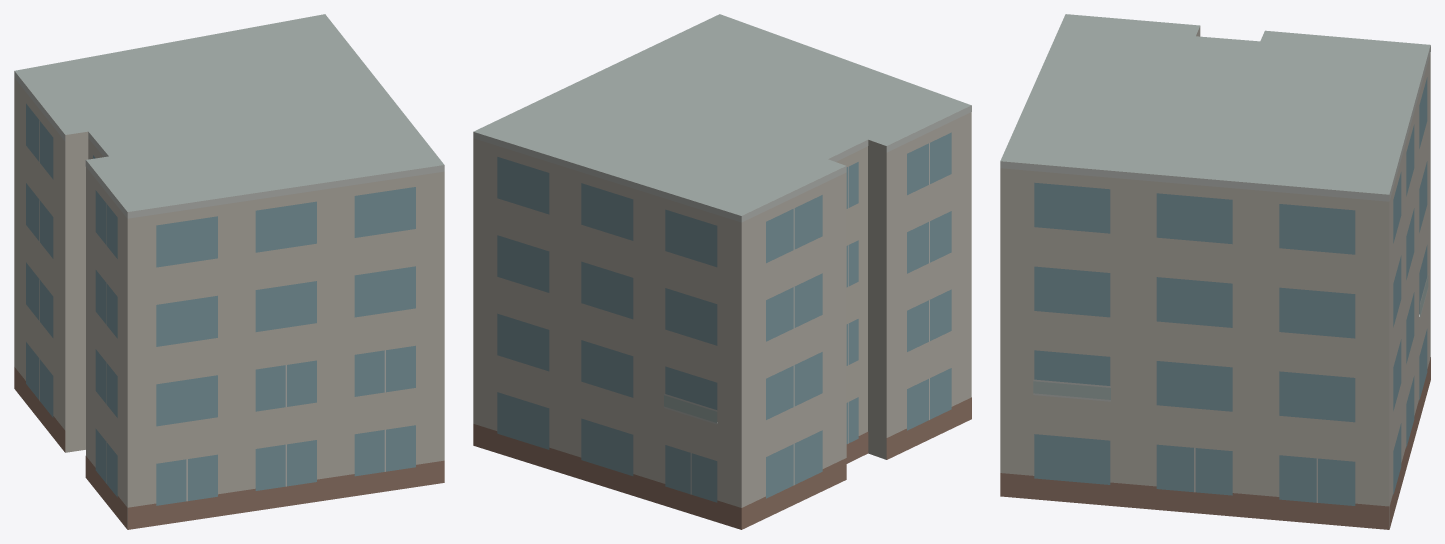
File: survey-upis-32899996.glb
The picture shows the model from 3 angles, left to right: view 1: azimuth 30°, elevation 25°; view 2: azimuth 150°, elevation 25°; view 3: azimuth 270°, elevation 25°; orthographic projection. The views are drawn at different scales.
Parts seen in each view (by area): view 1: survey-upis-32899996.tmp; view 2: survey-upis-32899996.tmp; view 3: survey-upis-32899996.tmp.
Part boxes in pixels (x1=…): survey-upis-32899996.tmp: x1=14, y1=14, x2=444, y2=529; survey-upis-32899996.tmp: x1=473, y1=14, x2=971, y2=529; survey-upis-32899996.tmp: x1=1000, y1=14, x2=1430, y2=529.
Bounding box in the file's own units: 13.54 × 11.7 × 13.63.
